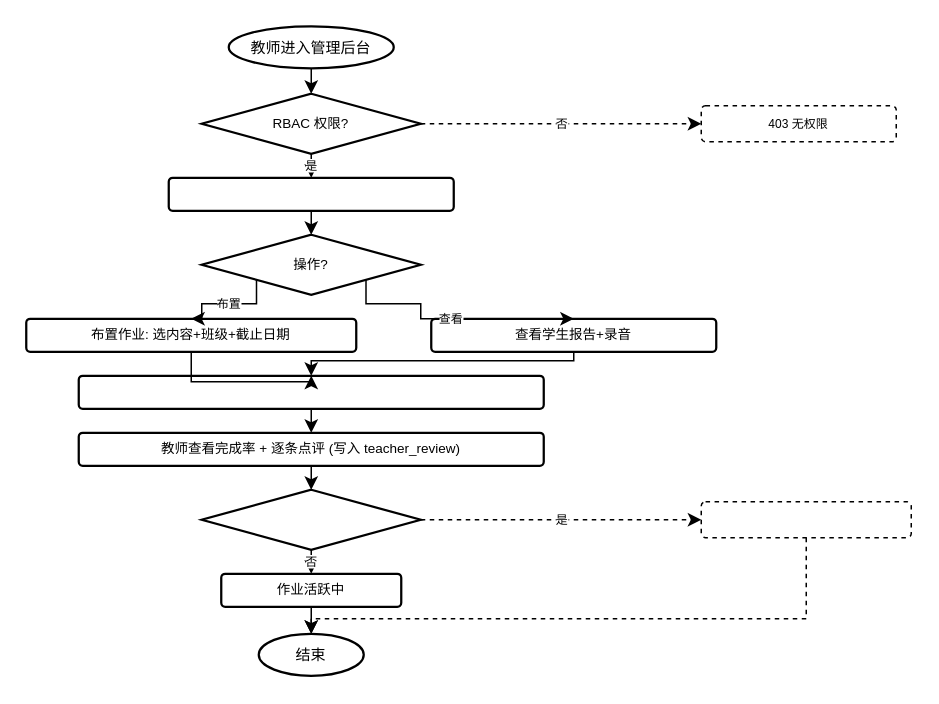
Image size: 939x704. Some labels were removed from this diagram. The shapes that lost their labels are listed below. From the top down, each one's centre as x and y in pixels, then its label:
At pixel 310 193: "选择班级 → 查看学生列表".
At pixel 310 391: "学生完成 (复用学习服务) → 写入 assignment_records".
At pixel 310 519: "作业截止?".
At pixel 805 519: "标记「已截止」".
